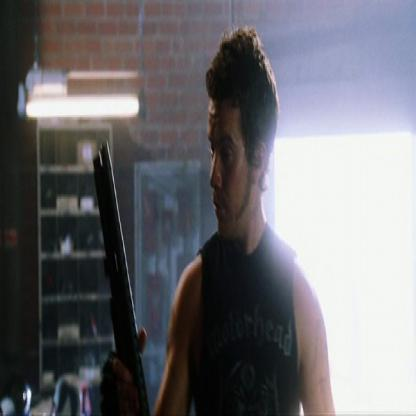Gun: (91, 134, 153, 414)
